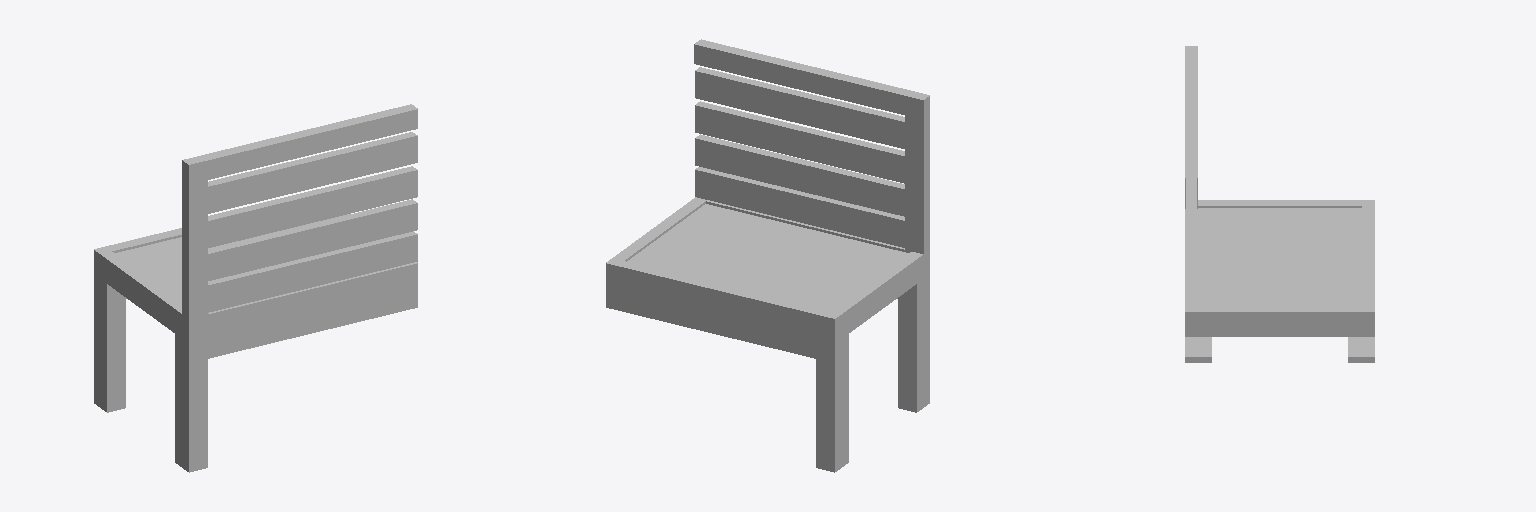
File: benchrightx-.obj
3 renders of one model, left to right at view 1: azimuth 30°, elevation 25°; view 2: azimuth 150°, elevation 25°; view 3: azimuth 270°, elevation 25°, orthographic.
Visible parts, largest first — view 1: chair_bedx+.042; view 2: chair_bedx+.042; view 3: chair_bedx+.042.
Part boxes in pixels (x1,y1,x2,y2): chair_bedx+.042: (94,104,417,472); chair_bedx+.042: (606,39,929,472); chair_bedx+.042: (1185,46,1374,362).
Size of the model in its own units: 0.9737 by 1.25 by 0.7.